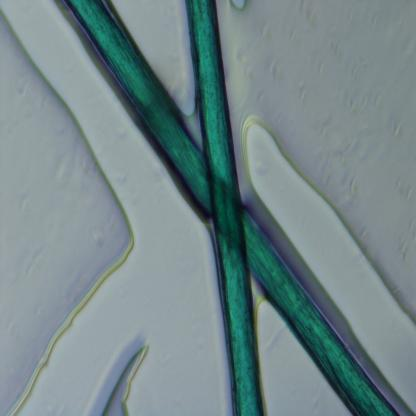Air bubble: (0, 10, 139, 414), (241, 106, 342, 256), (312, 184, 416, 329), (100, 342, 151, 416), (228, 0, 250, 12)
Microfibre: (65, 0, 399, 414), (184, 0, 268, 414)
